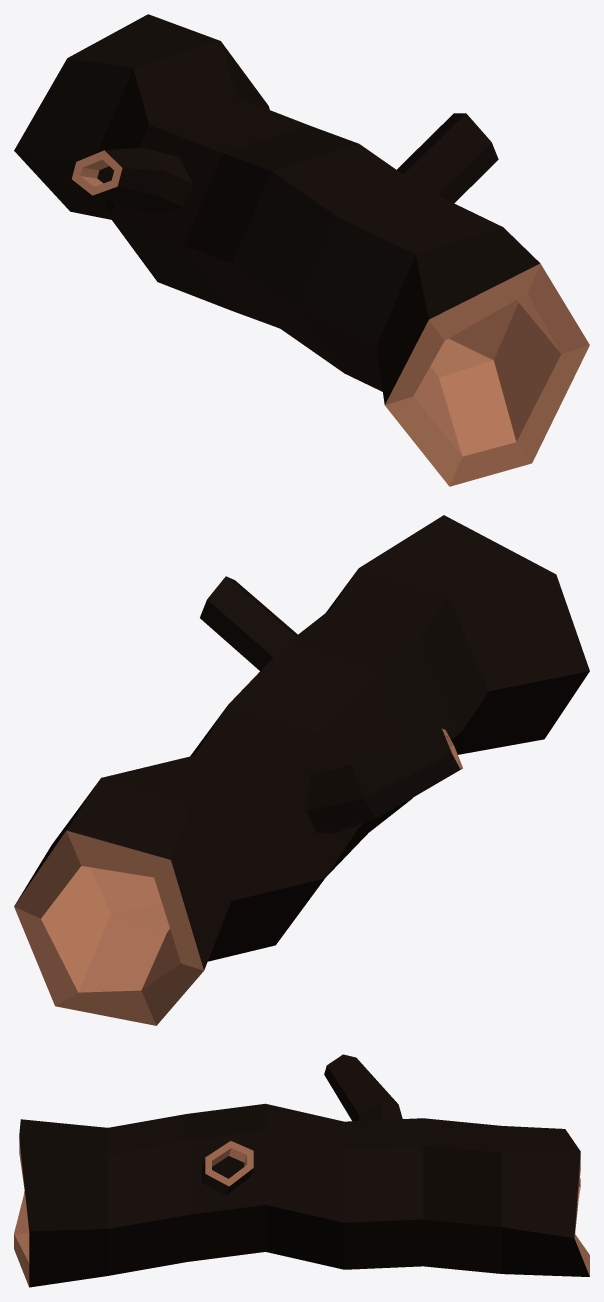
File: tong2.fbx
The picture shows the model from 3 angles, top to bottom: view 1: azimuth 30°, elevation 25°; view 2: azimuth 150°, elevation 25°; view 3: azimuth 270°, elevation 25°; orthographic projection. The views are drawn at different scales.
Parts seen in each view (by area): view 1: Object002; view 2: Object002; view 3: Object002.
Part boxes in pixels (x1,y1,x2,y2): Object002: [14, 14, 589, 486]; Object002: [14, 515, 589, 1025]; Object002: [14, 1054, 589, 1287].
Size of the model in its own units: 27.25 by 18.36 by 55.62.
